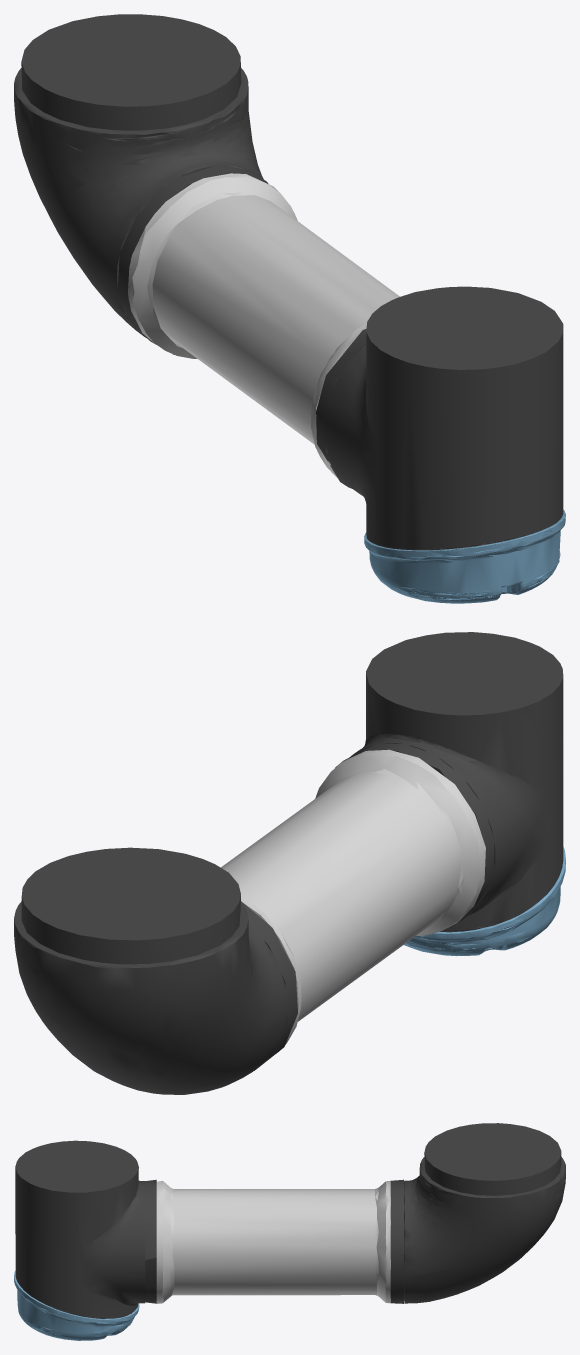
Rendered from forearm.obj.
3 renders of one model, top to bottom at view 1: azimuth 30°, elevation 25°; view 2: azimuth 150°, elevation 25°; view 3: azimuth 270°, elevation 25°, orthographic. The views are drawn at different scales.
Visible parts, largest first — view 1: Part__Feature025-mesh, Part__Feature019-mesh, Part__Feature023-mesh, Part__Feature032-mesh, Part__Feature024-mesh, Part__Feature026-mesh; view 2: Part__Feature019-mesh, Part__Feature023-mesh, Part__Feature025-mesh, Part__Feature032-mesh, Part__Feature026-mesh, Part__Feature024-mesh; view 3: Part__Feature023-mesh, Part__Feature019-mesh, Part__Feature025-mesh, Part__Feature032-mesh, Part__Feature024-mesh, Part__Feature026-mesh.
Boxes of the visible parts, bbox=[...] form: Part__Feature025-mesh: bbox=[324, 286, 563, 550]; Part__Feature019-mesh: bbox=[14, 14, 263, 337]; Part__Feature023-mesh: bbox=[128, 173, 399, 477]; Part__Feature032-mesh: bbox=[364, 509, 565, 603]; Part__Feature024-mesh: bbox=[117, 164, 268, 354]; Part__Feature026-mesh: bbox=[316, 329, 366, 488]; Part__Feature019-mesh: bbox=[14, 847, 287, 1094]; Part__Feature023-mesh: bbox=[221, 749, 485, 1052]; Part__Feature025-mesh: bbox=[349, 632, 563, 932]; Part__Feature032-mesh: bbox=[404, 847, 565, 956]; Part__Feature026-mesh: bbox=[335, 743, 494, 921]; Part__Feature024-mesh: bbox=[241, 901, 297, 1070]; Part__Feature023-mesh: bbox=[156, 1181, 390, 1303]; Part__Feature019-mesh: bbox=[404, 1123, 565, 1303]; Part__Feature025-mesh: bbox=[15, 1140, 145, 1318]; Part__Feature032-mesh: bbox=[14, 1270, 139, 1340]; Part__Feature024-mesh: bbox=[390, 1179, 403, 1303]; Part__Feature026-mesh: bbox=[145, 1179, 156, 1303].
Size of the model in its own units: 0.075 by 0.0971 by 0.2828.
